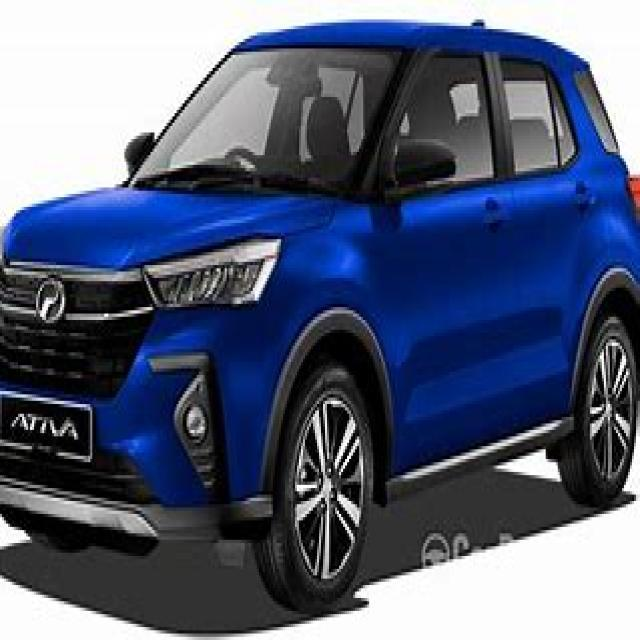PeroduaAtiva: (0, 12, 638, 618)
